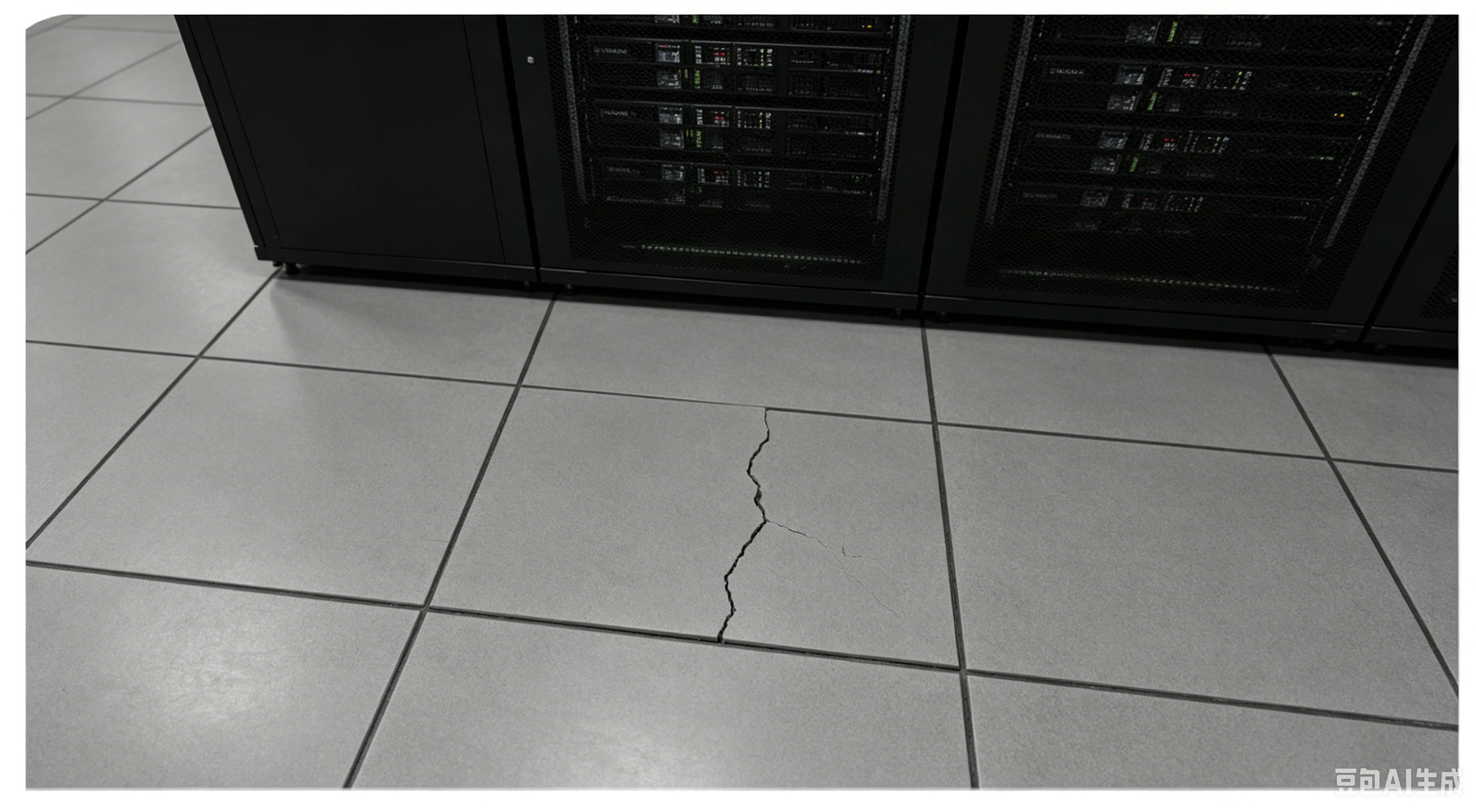floor_defect: (720, 409, 770, 647)
